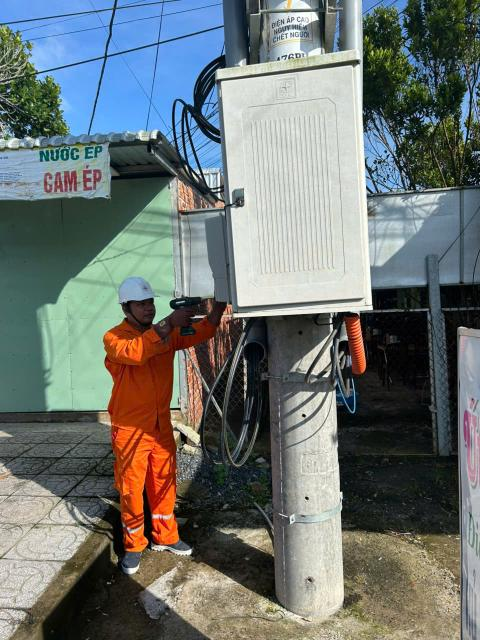gloves: (147, 302, 208, 336), (208, 292, 233, 329)
helmet: (115, 272, 158, 308)
shoes: (155, 530, 197, 560), (114, 543, 149, 575)
